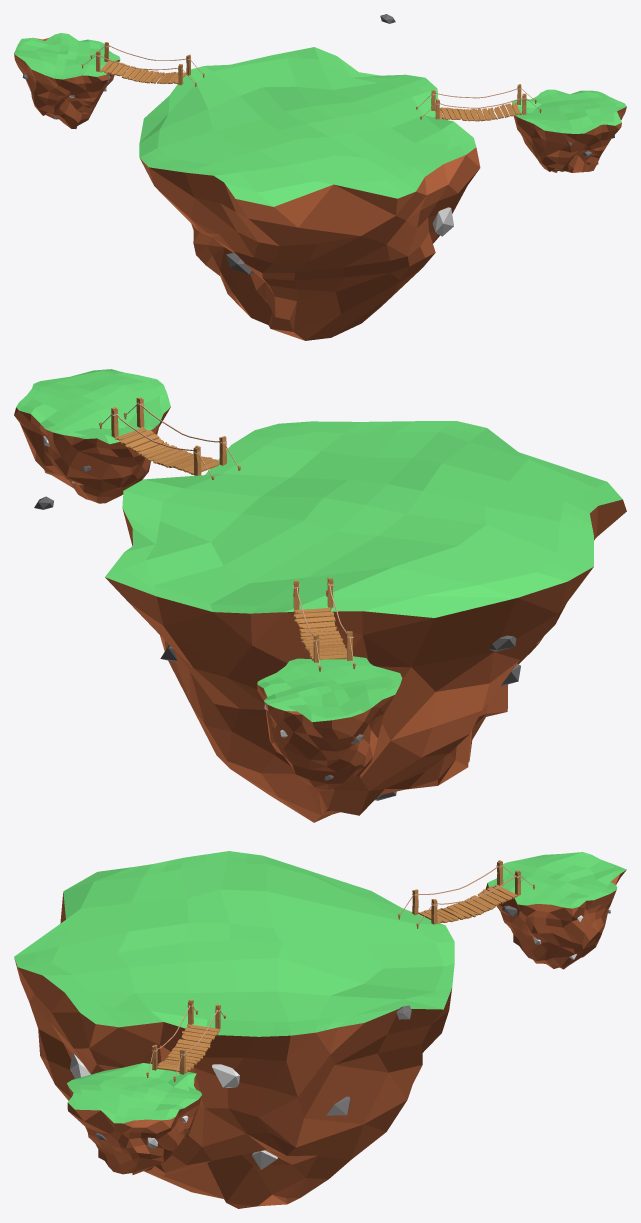
File: Hauptinselfbx.fbx
The picture shows the model from 3 angles, top to bottom: view 1: azimuth 30°, elevation 25°; view 2: azimuth 150°, elevation 25°; view 3: azimuth 270°, elevation 25°; orthographic projection. The views are drawn at different scales.
Parts seen in each view (by area): view 1: Cube.002, Cube.033, Cube.001, Cube, Cube.031, Cube.032; view 2: Cube.033, Cube.002, Cube, Cube.001, Cube.031, Cube.032; view 3: Cube.033, Cube.002, Cube, Cube.001, Cube.031, Cube.032.
Boxes of the visible parts, left/top/right/bottom form: Cube.002: left=139, top=47, right=480, bottom=340; Cube.033: left=140, top=47, right=466, bottom=192; Cube.001: left=511, top=89, right=626, bottom=172; Cube: left=14, top=33, right=120, bottom=128; Cube.031: left=514, top=92, right=616, bottom=130; Cube.032: left=18, top=37, right=119, bottom=75; Cube.033: left=105, top=426, right=596, bottom=612; Cube.002: left=105, top=421, right=626, bottom=822; Cube: left=257, top=656, right=402, bottom=790; Cube.001: left=14, top=369, right=170, bottom=503; Cube.031: left=24, top=370, right=159, bottom=436; Cube.032: left=266, top=657, right=392, bottom=718; Cube.033: left=34, top=857, right=445, bottom=1036; Cube.002: left=14, top=851, right=454, bottom=1208; Cube: left=485, top=852, right=626, bottom=969; Cube.001: left=67, top=1063, right=201, bottom=1174; Cube.031: left=76, top=1067, right=190, bottom=1117; Cube.032: left=493, top=855, right=614, bottom=905.
Bounding box in the file's own units: 1406 × 701 × 1400.
